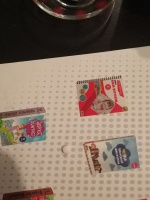Yuvarlak Buskopan: (61, 145, 72, 154)
